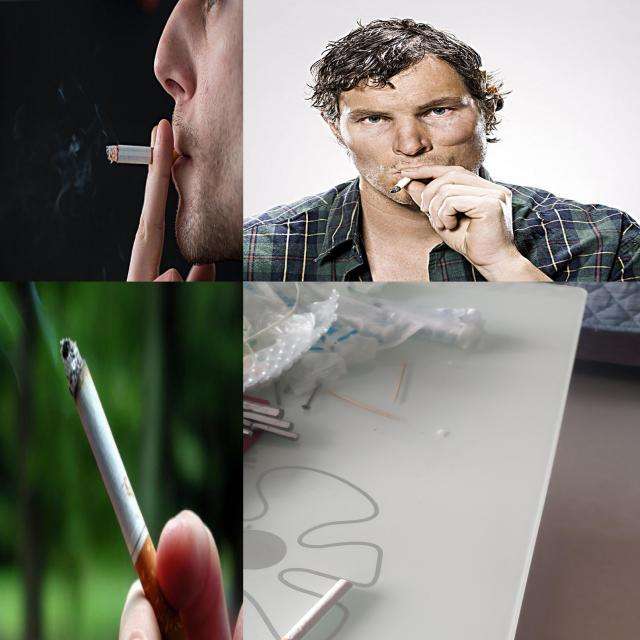cigarette: (60, 336, 189, 639), (246, 579, 353, 640), (105, 143, 185, 167), (388, 177, 414, 194)
